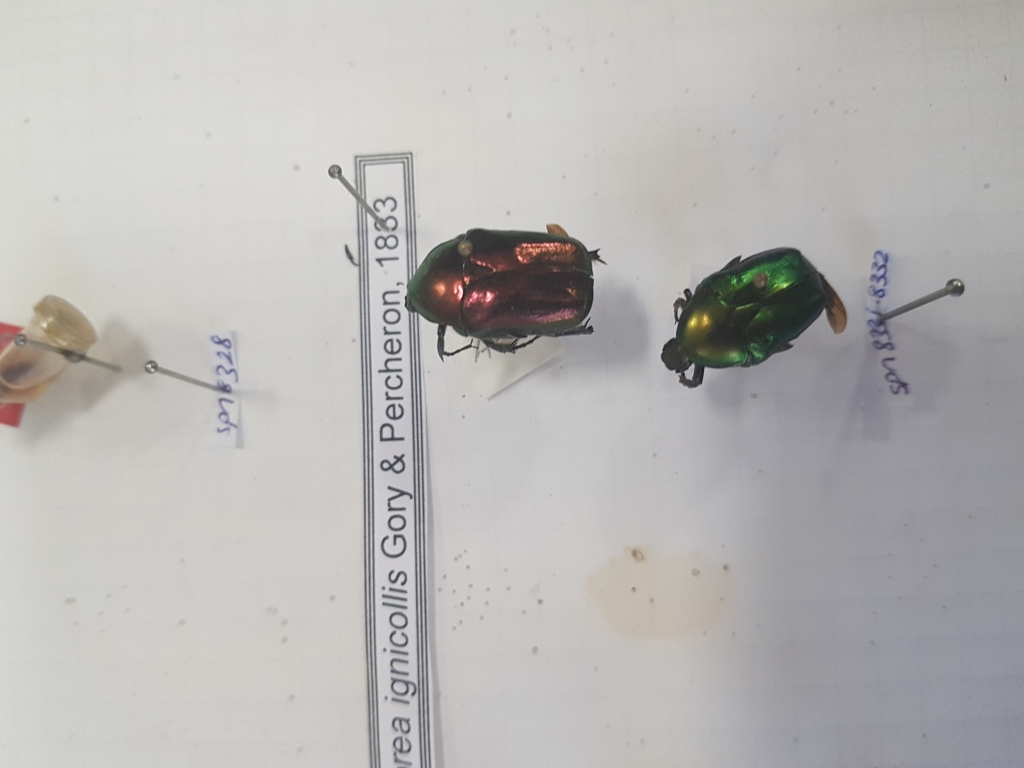Protaetia_cuprea_ignicollis: (394, 221, 615, 379), (649, 233, 858, 393)
